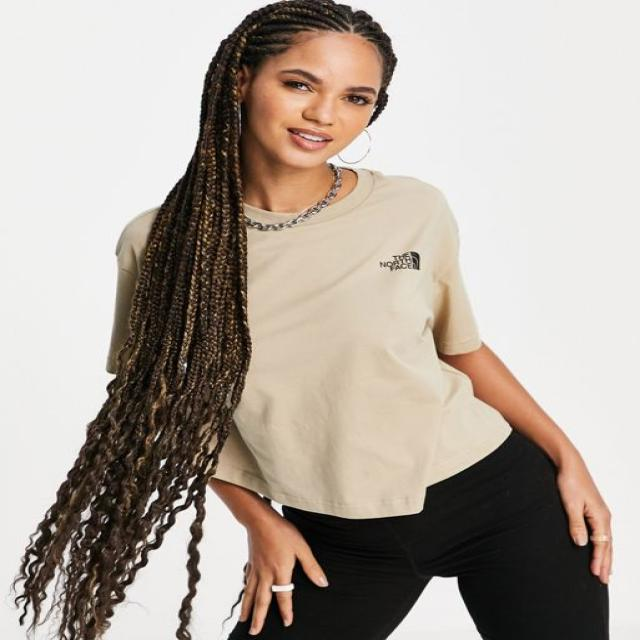tshirt: (102, 165, 513, 520)
